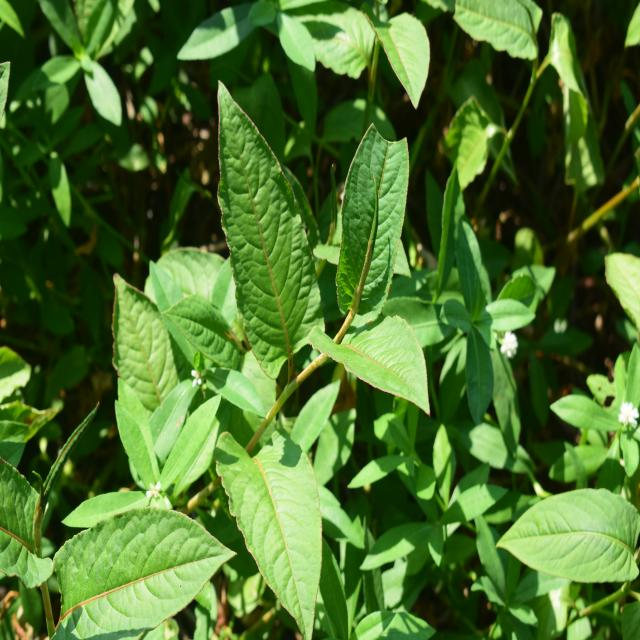Chinese_knotweed: (192, 76, 414, 604)
